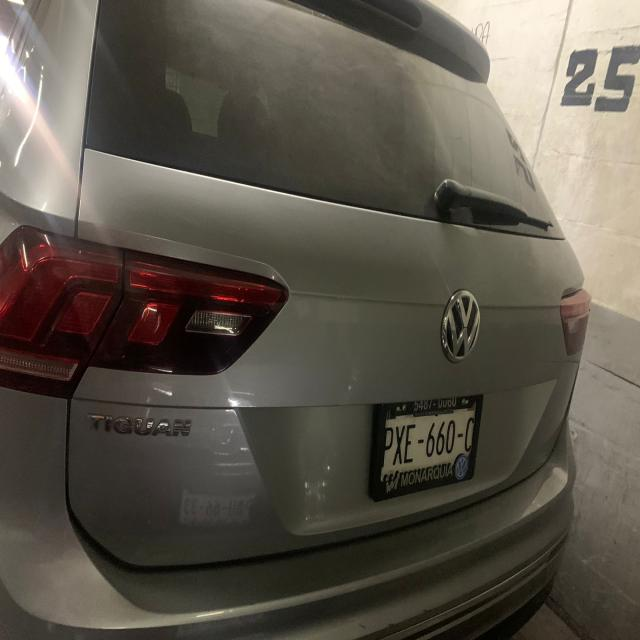placa: (378, 417, 482, 467)
